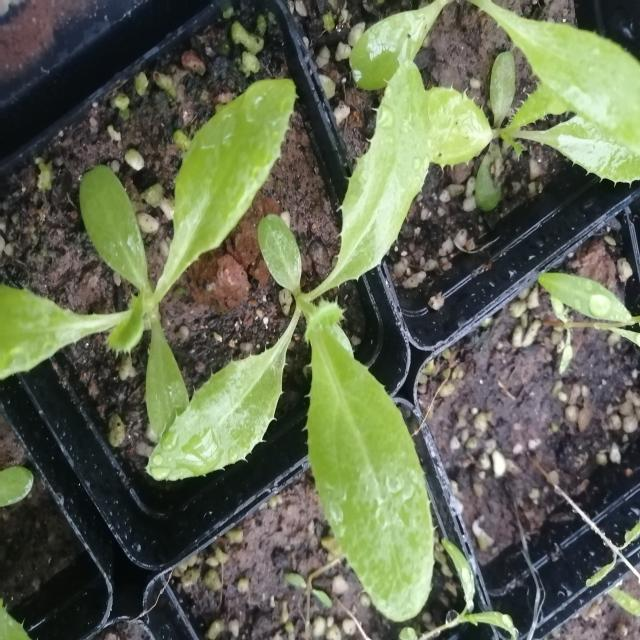field_thistle: (214, 85, 460, 620), (0, 47, 273, 459)
